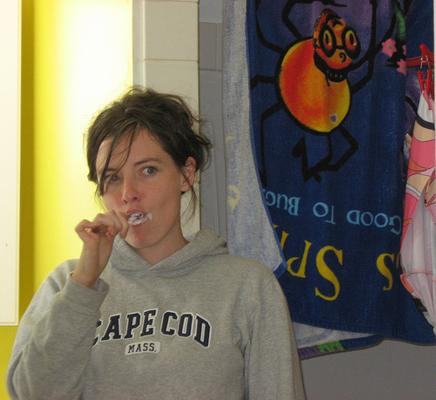person: (8, 89, 307, 400)
